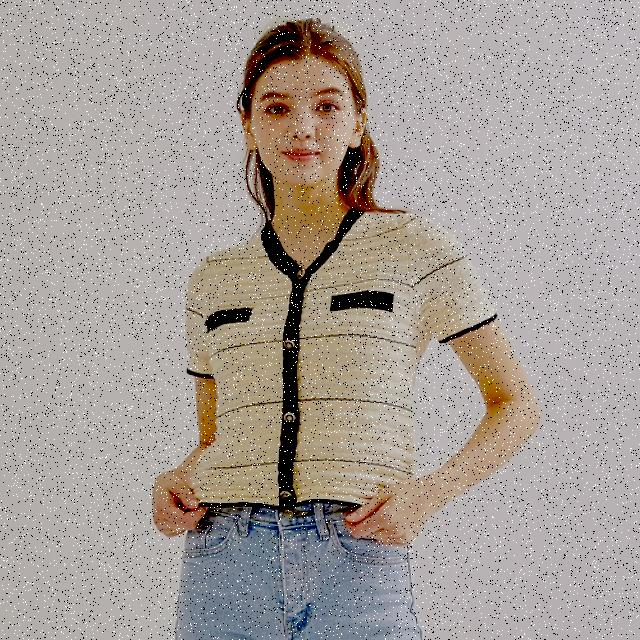dress: (184, 208, 503, 510)
